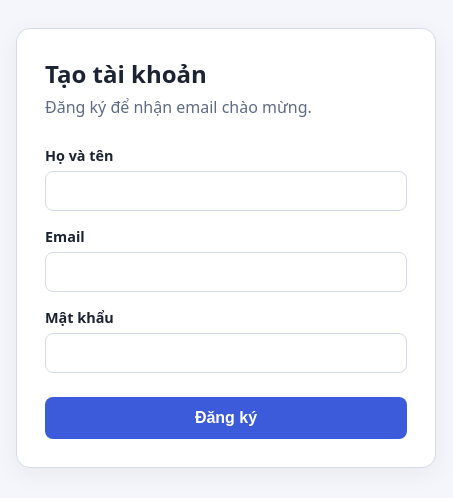
Test: App (form đăng ký) › F-03 mật khẩu ngắn bị chặn ở client
Type "Nguyen Van A" into the field labelled "Họ và tên" at (226, 191), box [45, 171, 407, 211]
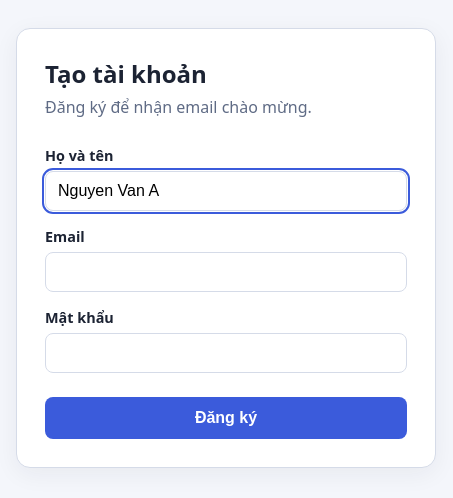
Type "a@example.com" into the field labelled "Email" at (226, 272), box [45, 252, 407, 292]
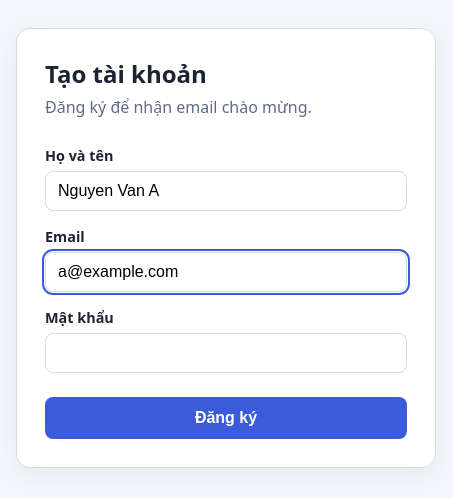
Type "1234567" into the password field labelled "Mật khẩu" at (226, 353), box [45, 333, 407, 373]
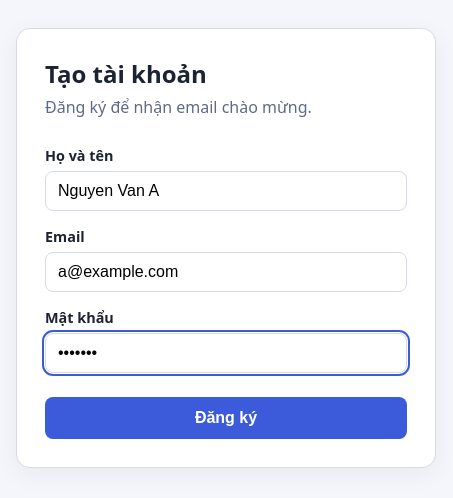
Click the button "Đăng ký" at (226, 418), box [45, 397, 407, 439]
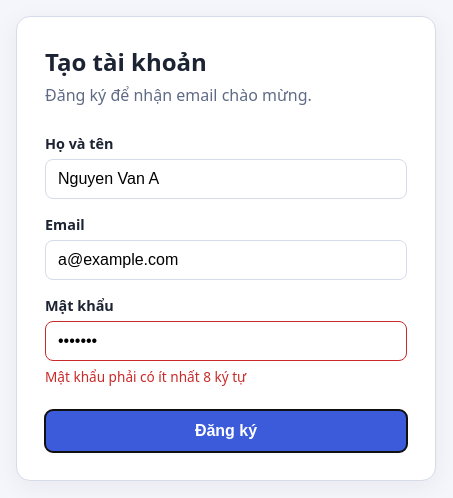
Expected: the text "Mật khẩu phải có ít nhất 8 ký tự" is shown, [45, 366, 246, 386]
